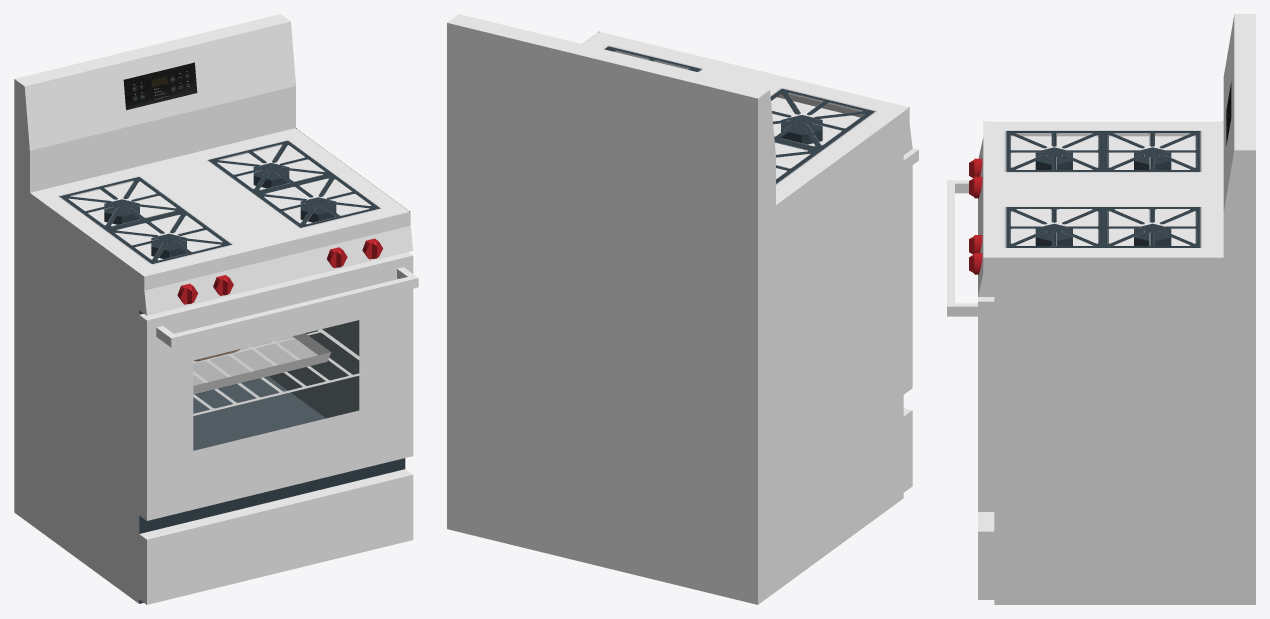
3 renders of one model, left to right at view 1: azimuth 30°, elevation 25°; view 2: azimuth 150°, elevation 25°; view 3: azimuth 270°, elevation 25°, orthographic. The views are drawn at different scales.
Parts seen in each view (by area): view 1: Oven, Door, Top_Grill, Bottom_Drawer, Back_Upper, Back_Lower, Knob_Panel, Stove_Top, Pan, Handle_5, Control_Panel, Rack (+4 smaller); view 2: Oven, Back_Upper, Back_Lower, Top_Grill, Stove_Top, Door, Front_Left, Bottom_Drawer, Knob_Panel; view 3: Oven, Top_Grill, Back_Upper, Stove_Top, Door, Back_Lower, Handle_5, Bottom_Drawer, Knob_Panel, Front_Left, Back_Left, Back_Right (+1 smaller).
Boxes of the visible parts, bbox=[...] form: Oven: bbox=[14, 145, 405, 603]; Door: bbox=[139, 252, 413, 520]; Top_Grill: bbox=[31, 128, 408, 276]; Bottom_Drawer: bbox=[139, 469, 413, 604]; Back_Upper: bbox=[14, 14, 295, 150]; Back_Lower: bbox=[14, 86, 295, 206]; Knob_Panel: bbox=[139, 225, 413, 315]; Stove_Top: bbox=[30, 128, 410, 290]; Pan: bbox=[193, 333, 331, 394]; Handle_5: bbox=[156, 267, 418, 347]; Control_Panel: bbox=[123, 62, 197, 110]; Rack: bbox=[193, 329, 366, 415]; Oven: bbox=[447, 97, 903, 604]; Back_Upper: bbox=[447, 14, 775, 169]; Back_Lower: bbox=[447, 93, 775, 234]; Top_Grill: bbox=[582, 32, 908, 204]; Stove_Top: bbox=[583, 31, 909, 221]; Door: bbox=[903, 153, 912, 394]; Front_Left: bbox=[781, 115, 822, 144]; Bottom_Drawer: bbox=[903, 408, 912, 492]; Knob_Panel: bbox=[617, 52, 912, 154]; Oven: bbox=[994, 136, 1255, 604]; Top_Grill: bbox=[983, 121, 1223, 257]; Back_Upper: bbox=[1223, 14, 1255, 213]; Stove_Top: bbox=[983, 121, 1223, 272]; Door: bbox=[978, 297, 994, 511]; Back_Lower: bbox=[1223, 213, 1255, 272]; Handle_5: bbox=[947, 180, 977, 316]; Bottom_Drawer: bbox=[978, 512, 994, 599]; Knob_Panel: bbox=[978, 138, 994, 296]; Front_Left: bbox=[1035, 147, 1072, 169]; Back_Left: bbox=[1134, 147, 1171, 169]; Back_Right: bbox=[1134, 223, 1171, 245].
Bounding box in the file's own units: 0.6974 × 1.09 × 0.6682.
Materials: 9 (4 with a texture image).
